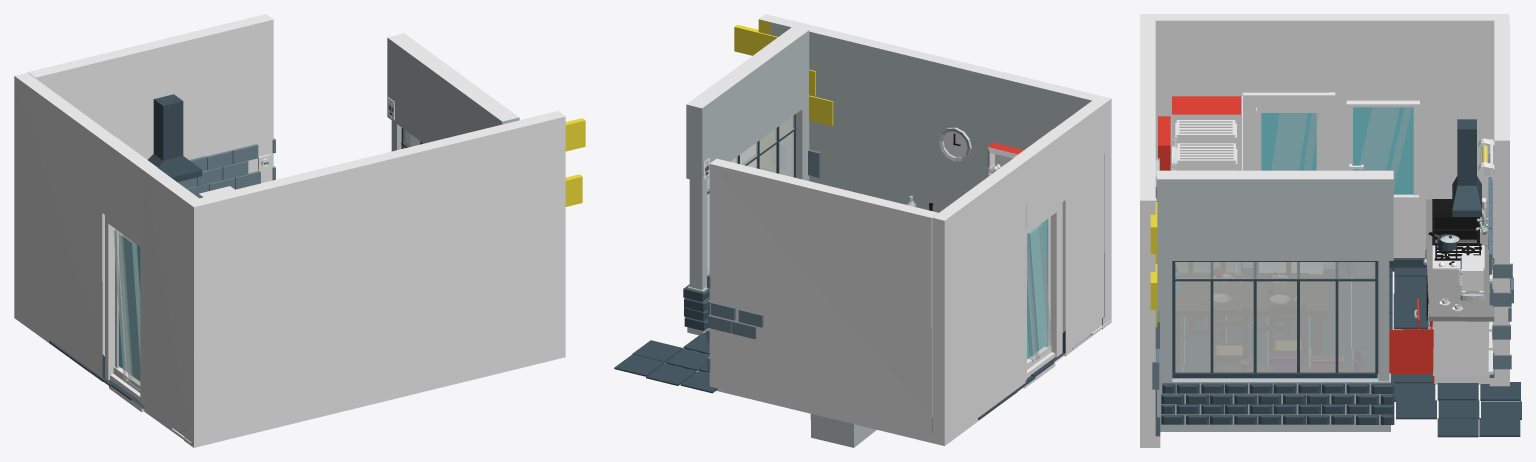
File: kitchen-by-julien-kleber--juliusprod--dGIfr24PJEd.glb
3 views of the same model, side by side, from view 1: azimuth 30°, elevation 25°; view 2: azimuth 150°, elevation 25°; view 3: azimuth 270°, elevation 25° (orthographic). The views are drawn at different scales.
Parts seen in each view (by area): view 1: group363973652, group151789403, group1418375057, group333617369, group1257611146, group415366905, group1317862010, group2101137712, group998847033, group654027920, group480200648, group234898652 (+2 smaller); view 2: group1418375057, group363973652, group151789403, group1257611146, group333617369, group415366905, group480200648, group1317862010, group998847033, group639578837, group943081849, group1724631684 (+13 smaller); view 3: group151789403, group1257611146, group1724631684, group537531475, group480200648, group333617369, group415366905, group1317862010, group363973652, group1950608560, group1418375057, group2075930508 (+38 smaller).
Boxes of the visible parts, box(x1,y1,x2,y2) form: group363973652: box(184, 111, 565, 447); group151789403: box(14, 72, 114, 381); group1418375057: box(27, 14, 273, 183); group333617369: box(144, 167, 199, 439); group1257611146: box(387, 33, 519, 143); group415366905: box(105, 215, 144, 412); group1317862010: box(102, 137, 157, 243); group2101137712: box(148, 94, 202, 182); group998847033: box(118, 232, 140, 390); group654027920: box(197, 144, 258, 186); group480200648: box(387, 69, 497, 143); group234898652: box(113, 228, 129, 381); group1418375057: box(709, 158, 938, 442); group363973652: box(758, 14, 1111, 329); group151789403: box(932, 158, 1026, 445); group1257611146: box(686, 26, 809, 182); group333617369: box(1053, 100, 1104, 356); group415366905: box(1023, 202, 1062, 388); group480200648: box(686, 37, 809, 181); group1317862010: box(1014, 129, 1065, 228); group998847033: box(1027, 224, 1052, 358); group639578837: box(689, 179, 707, 289); group943081849: box(810, 414, 876, 447); group1724631684: box(707, 131, 793, 275); group151789403: box(1329, 14, 1509, 271); group1257611146: box(1157, 170, 1393, 260); group1724631684: box(1175, 281, 1375, 372); group537531475: box(1175, 281, 1374, 372); group480200648: box(1157, 184, 1393, 260); group333617369: box(1155, 14, 1241, 170); group415366905: box(1242, 92, 1335, 170); group1317862010: box(1242, 14, 1328, 95); group363973652: box(1140, 14, 1160, 447); group1950608560: box(1346, 100, 1419, 200); group1418375057: box(1489, 20, 1509, 386); group2075930508: box(1157, 373, 1390, 431).
Bounding box in the file's own units: 5.56 × 3.77 × 4.49.
